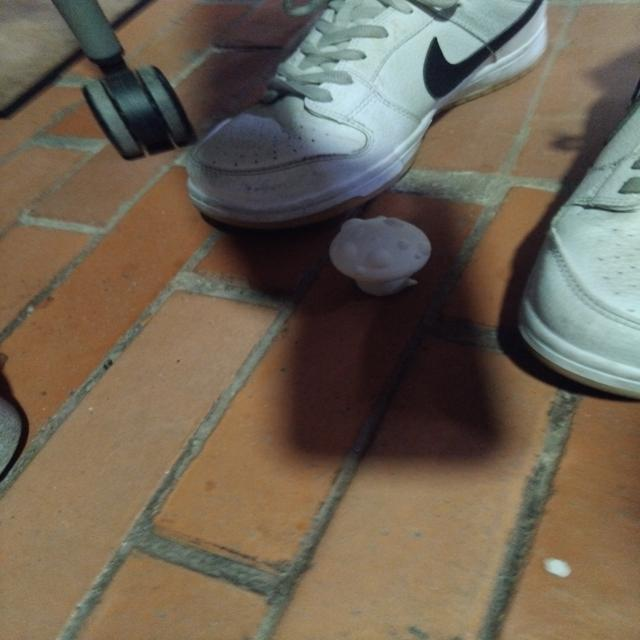Hongo: (316, 210, 450, 298)
